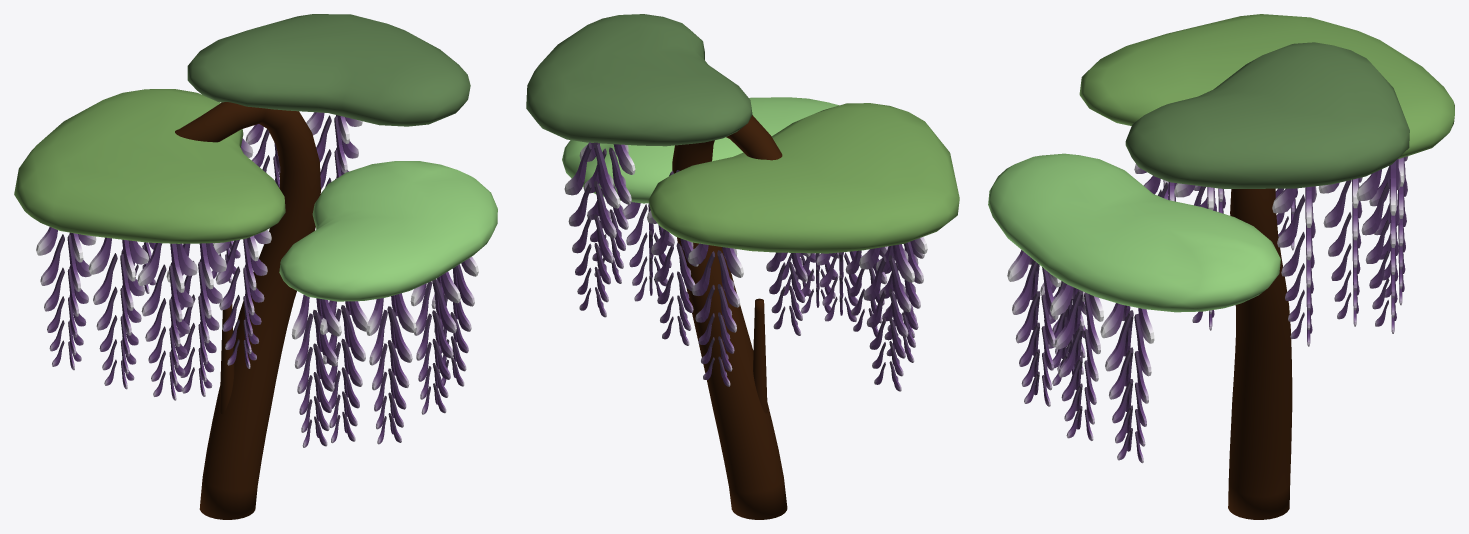
The model's file is ProtectionTree_02.fbx.
3 renders of one model, left to right at view 1: azimuth 30°, elevation 25°; view 2: azimuth 150°, elevation 25°; view 3: azimuth 270°, elevation 25°, orthographic. The views are drawn at different scales.
Visible parts, largest first — view 1: Trunk.002; view 2: Trunk.002; view 3: Trunk.002.
Part boxes in pixels (left/top/right/bottom): Trunk.002: left=14, top=14, right=497, bottom=519; Trunk.002: left=526, top=14, right=959, bottom=519; Trunk.002: left=988, top=14, right=1454, bottom=519.
Size of the model in its own units: 1709 by 1697 by 1507.
